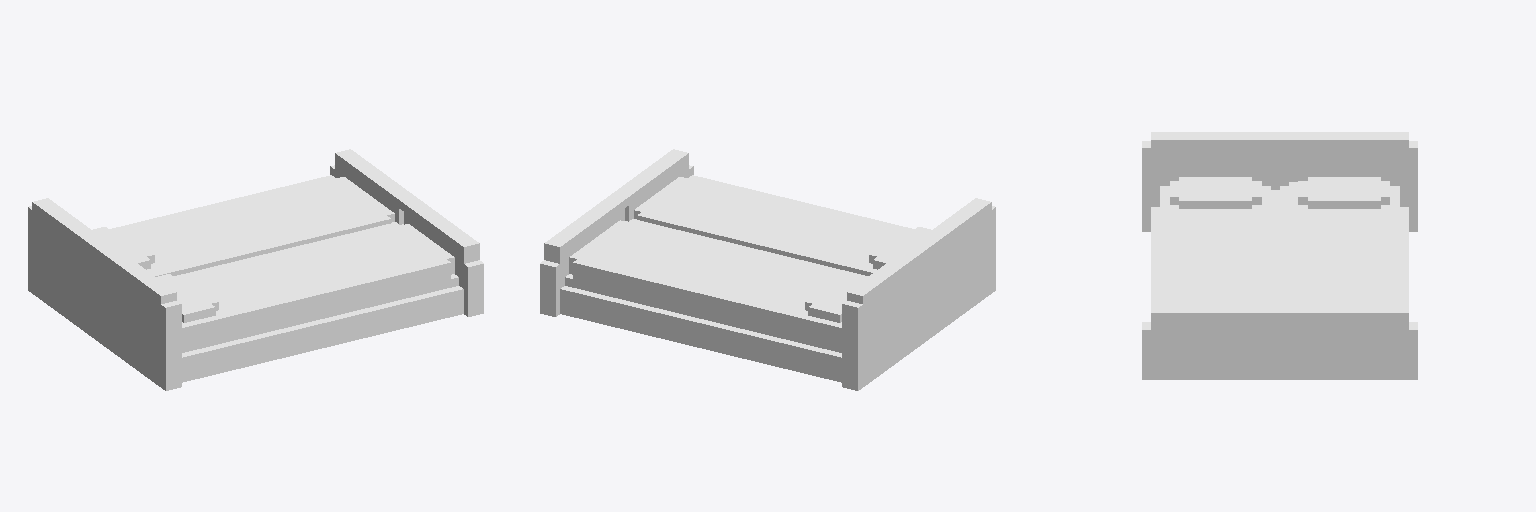
File: Bed_dva.obj
3 renders of one model, left to right at view 1: azimuth 30°, elevation 25°; view 2: azimuth 150°, elevation 25°; view 3: azimuth 270°, elevation 25°, orthographic.
Parts seen in each view (by area): view 1: object 1; view 2: object 1; view 3: object 1.
Part boxes in pixels (x1,y1,x2,y2): object 1: (28,149,483,390); object 1: (540,149,995,390); object 1: (1142,132,1417,379).
Size of the model in its own units: 4 by 1.1 by 3.